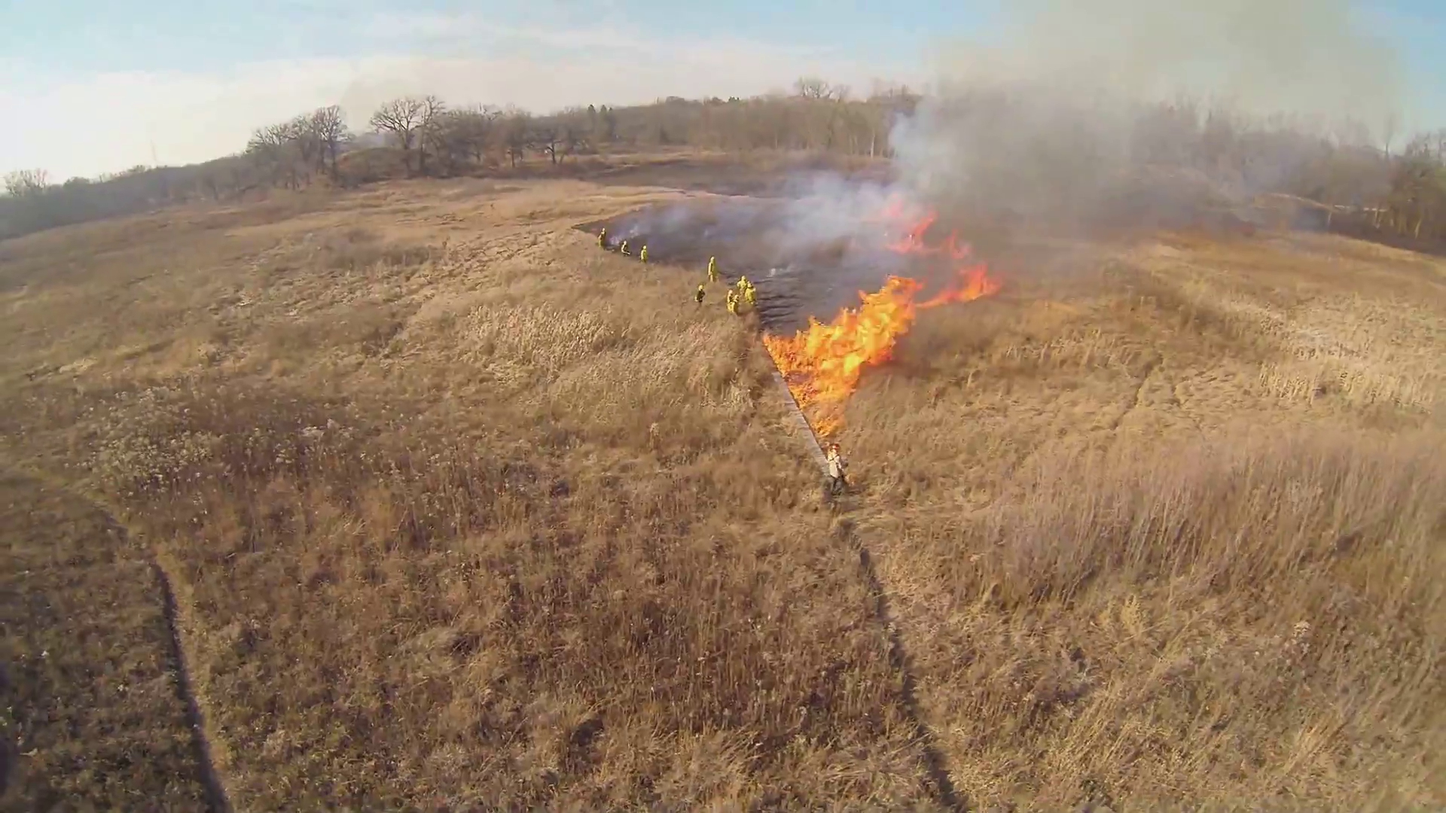forest_fire: (763, 265, 997, 409)
